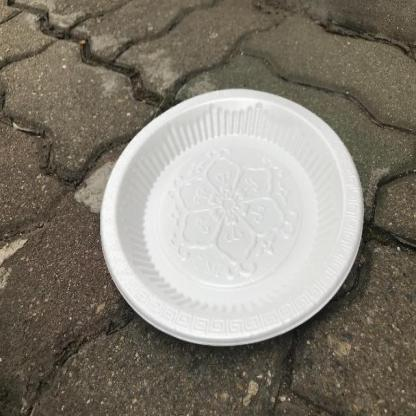Glass Cup: (99, 88, 364, 345), (100, 89, 364, 346)
